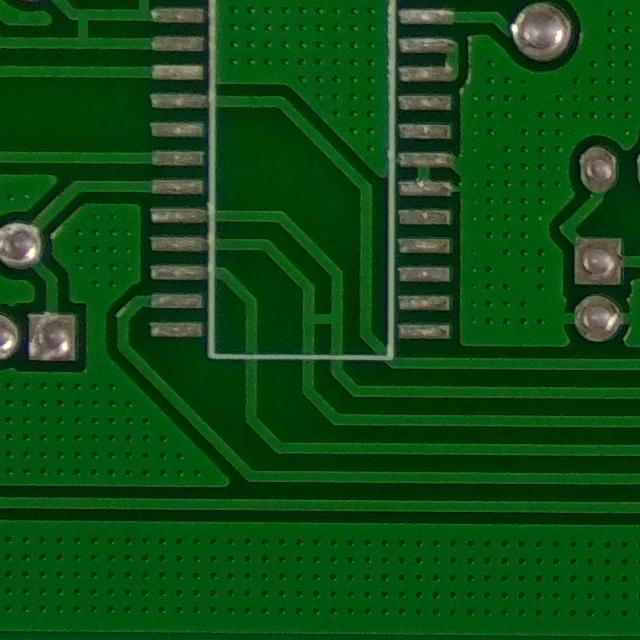short: (292, 290, 349, 350)
